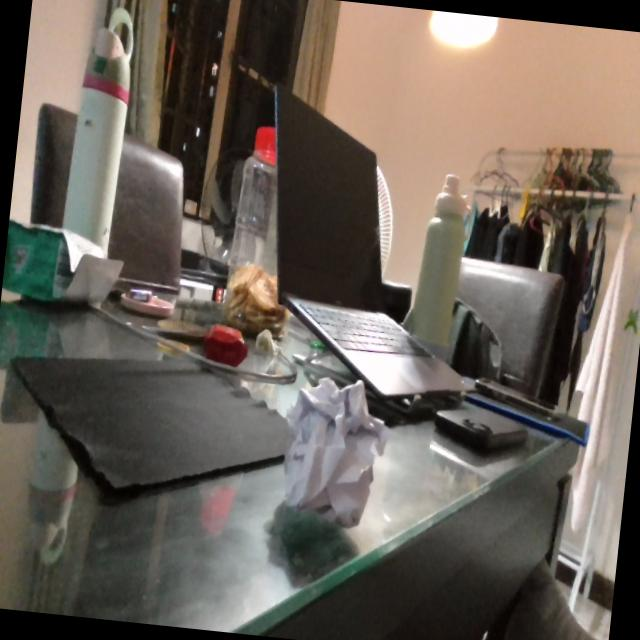crumpled_paper: (277, 371, 393, 536)
